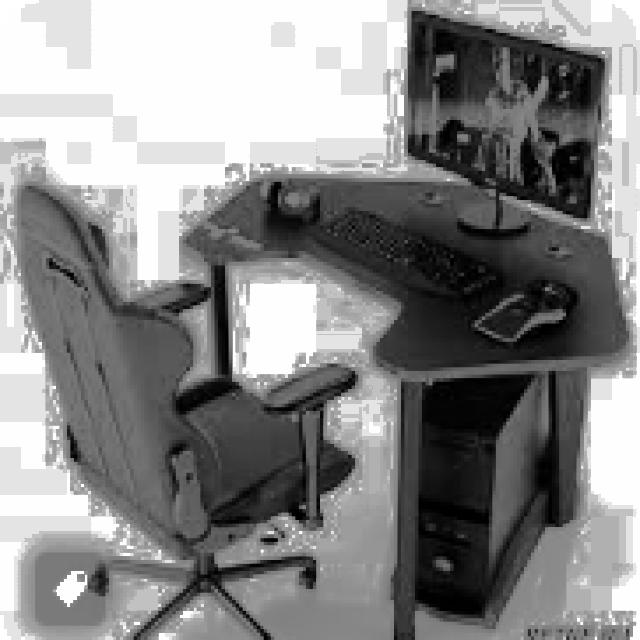book: (14, 178, 359, 636)
table: (180, 171, 630, 636)
